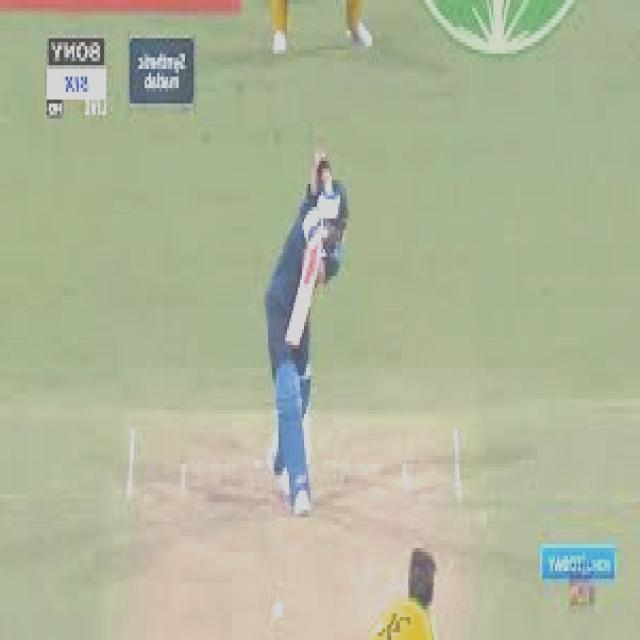bat: (275, 240, 333, 357)
toe: (280, 340, 303, 351)
